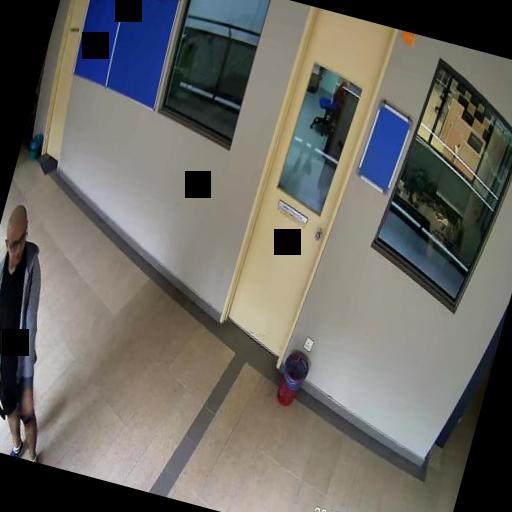Handgun: (0, 382, 10, 417)
